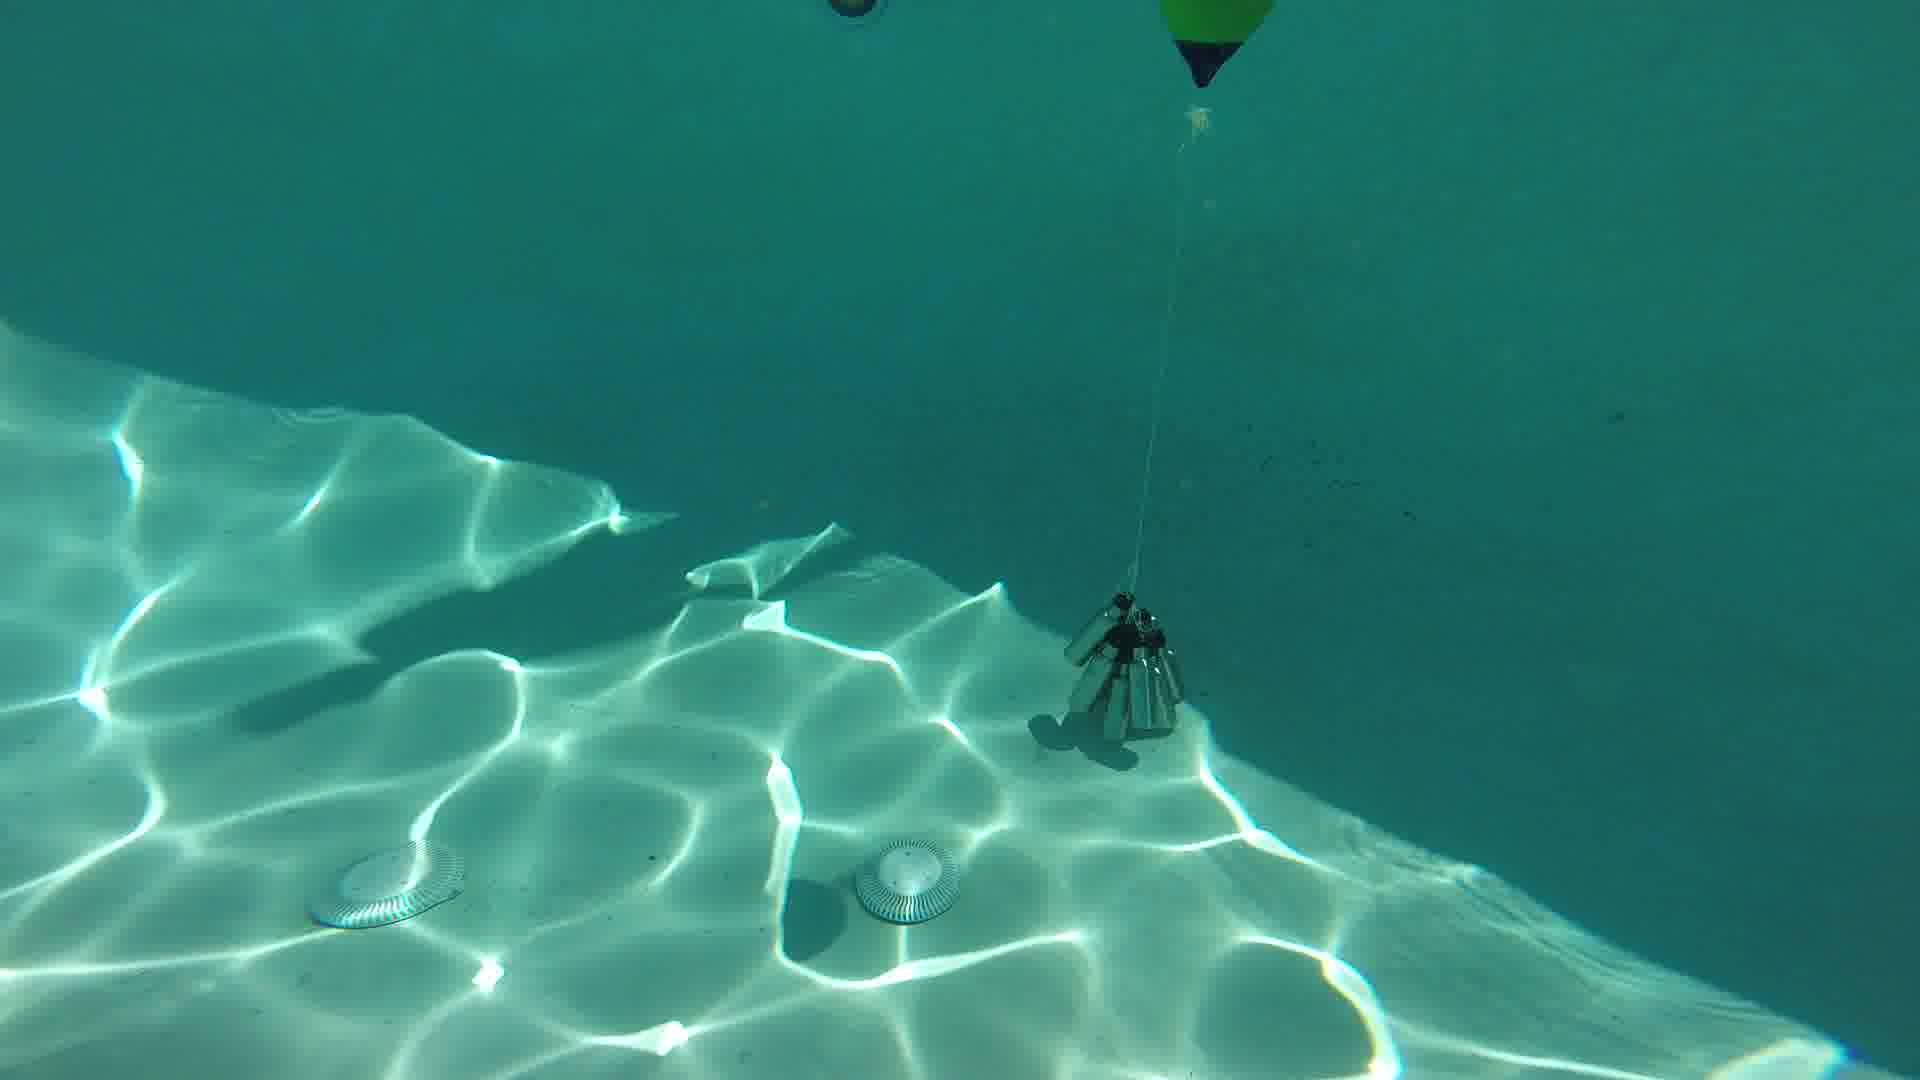yellow_buoy: (1155, 3, 1279, 141)
